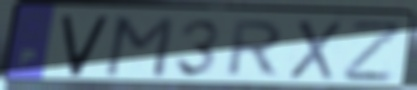3: (175, 18, 222, 78)
M: (101, 15, 177, 80)
R: (222, 19, 287, 79)
V: (59, 13, 112, 79)
X: (286, 18, 344, 83)
Z: (341, 19, 406, 84)
